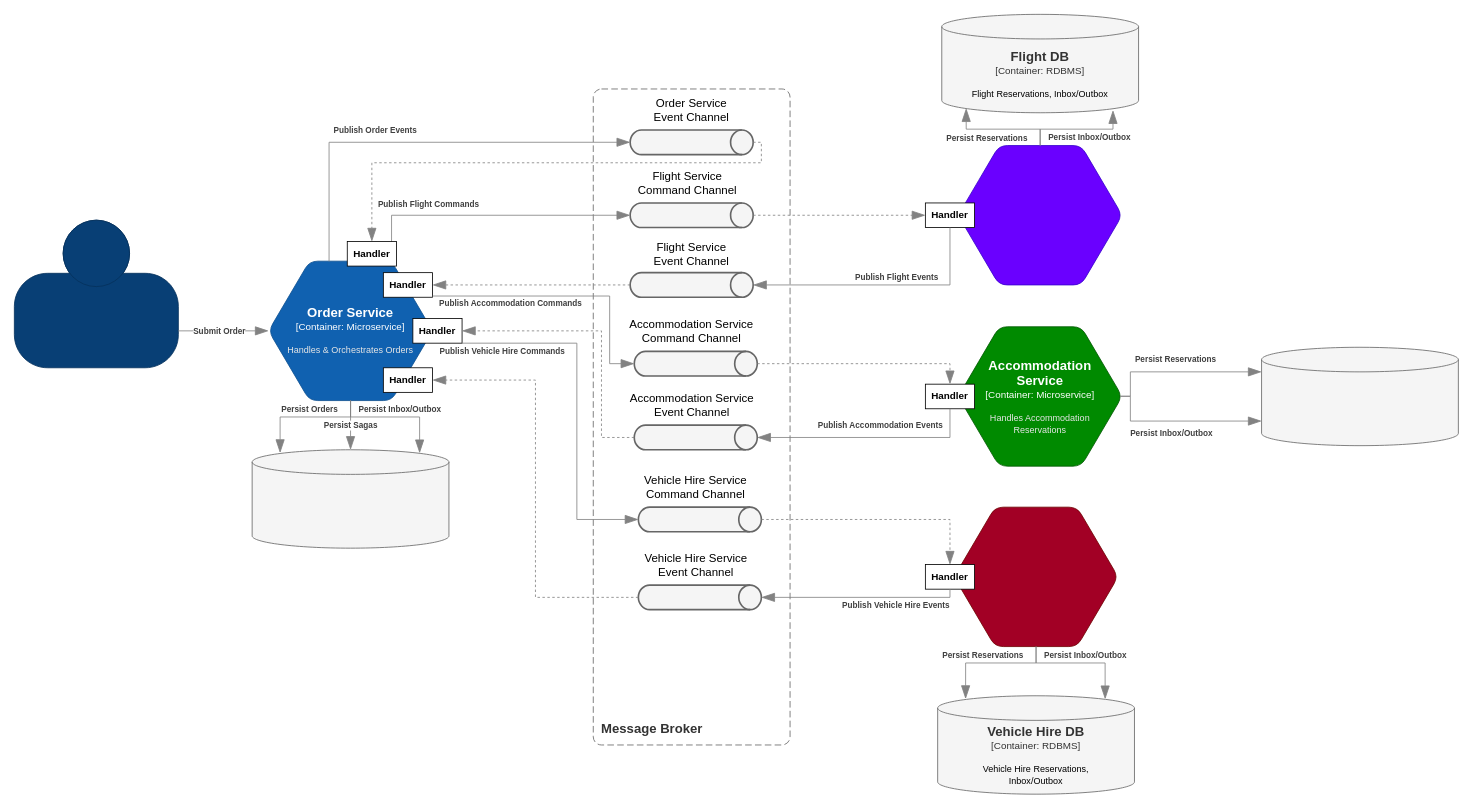
Image size: 1473x809. Some labels were removed from this diagram. The centre of each missing label's shape, as x and y in pixels:
Accommodation DB [Container: RDBMS] Accommodation Reservations, Inbox/Outbox: the point at 1359,396
Client Application Submits Orders: the point at 96,293
Flight Service [Container: Microservice] Handles Flight Reservations: the point at 1039,215
Order DB [Container: RDBMS] Stores Orders, Sagas, Inbox/Outbox: the point at 350,498
Vehicle Hire Service [Container: Microservice] Handles Vehicle Hire Reservations: the point at 1035,576
